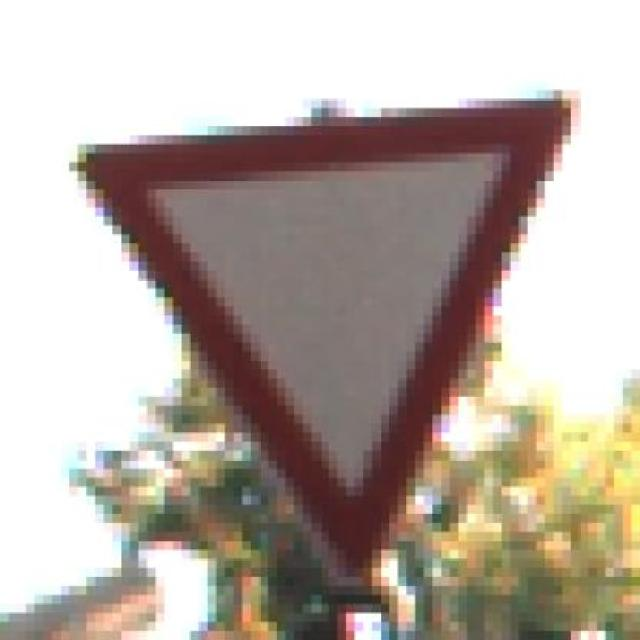Give Way: (60, 82, 597, 586)
